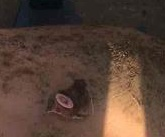text: (48, 86, 84, 116)
